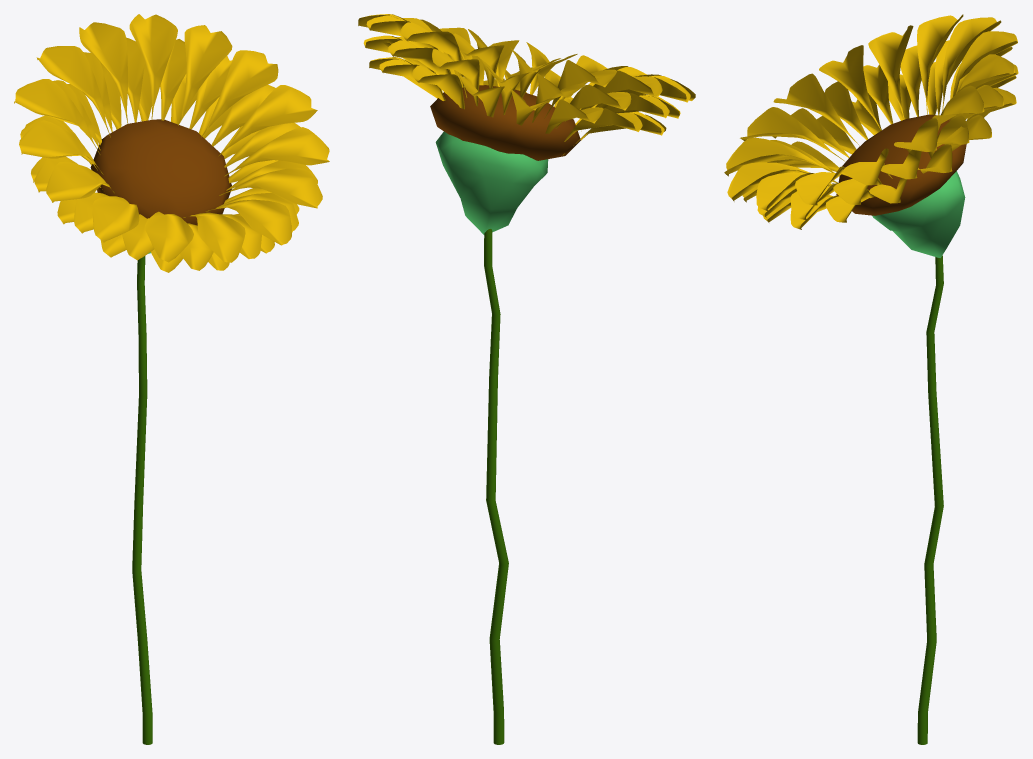
File: HeroFlower.fbx
3 renders of one model, left to right at view 1: azimuth 30°, elevation 25°; view 2: azimuth 150°, elevation 25°; view 3: azimuth 270°, elevation 25°, orthographic. The views are drawn at different scales.
Parts seen in each view (by area): view 1: HeroFlower:petals_group, pPlatonic1, pCylinder1; view 2: HeroFlower:petals_group, pPlatonic2, pPlatonic1, pCylinder1; view 3: HeroFlower:petals_group, pCylinder1, pPlatonic1, pPlatonic2.
Part boxes in pixels (bbox=[...]): HeroFlower:petals_group: bbox=[14, 14, 329, 272]; pPlatonic1: bbox=[90, 119, 231, 225]; pCylinder1: bbox=[132, 256, 152, 744]; HeroFlower:petals_group: bbox=[358, 14, 695, 154]; pPlatonic2: bbox=[435, 131, 548, 234]; pPlatonic1: bbox=[430, 85, 580, 160]; pCylinder1: bbox=[484, 229, 508, 744]; HeroFlower:petals_group: bbox=[724, 14, 1018, 229]; pCylinder1: bbox=[917, 255, 943, 744]; pPlatonic1: bbox=[836, 114, 966, 215]; pPlatonic2: bbox=[872, 171, 965, 257].
Size of the model in its own units: 2.16 by 5.09 by 1.94.
